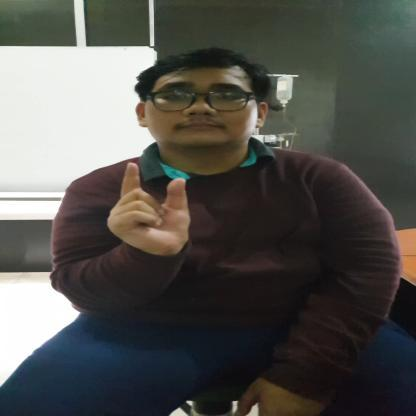U: (104, 162, 196, 260)
